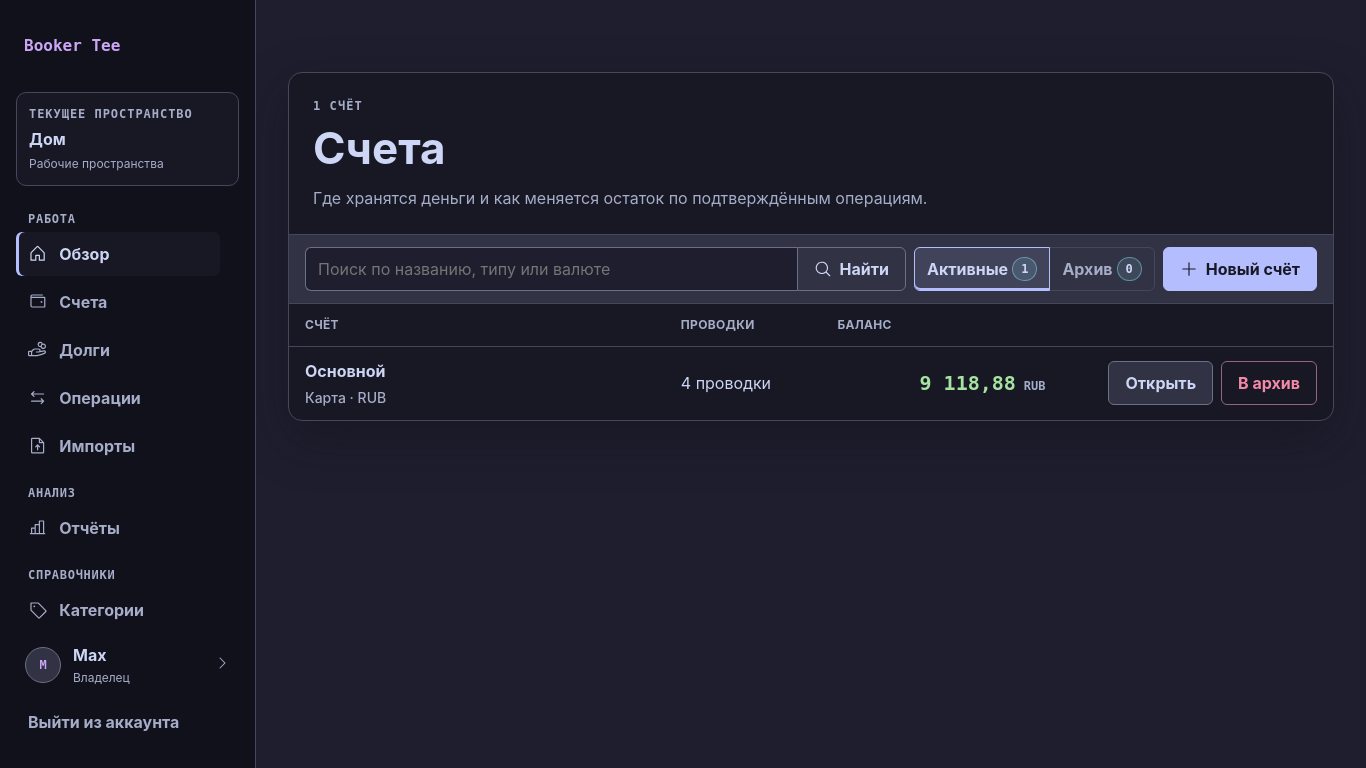
it: AccountListPage › archives only after confirmation and reconciles the committed row
Click the button "В архив" at coordinates (1269, 383), box x1=1221 y1=361 x2=1317 y2=405
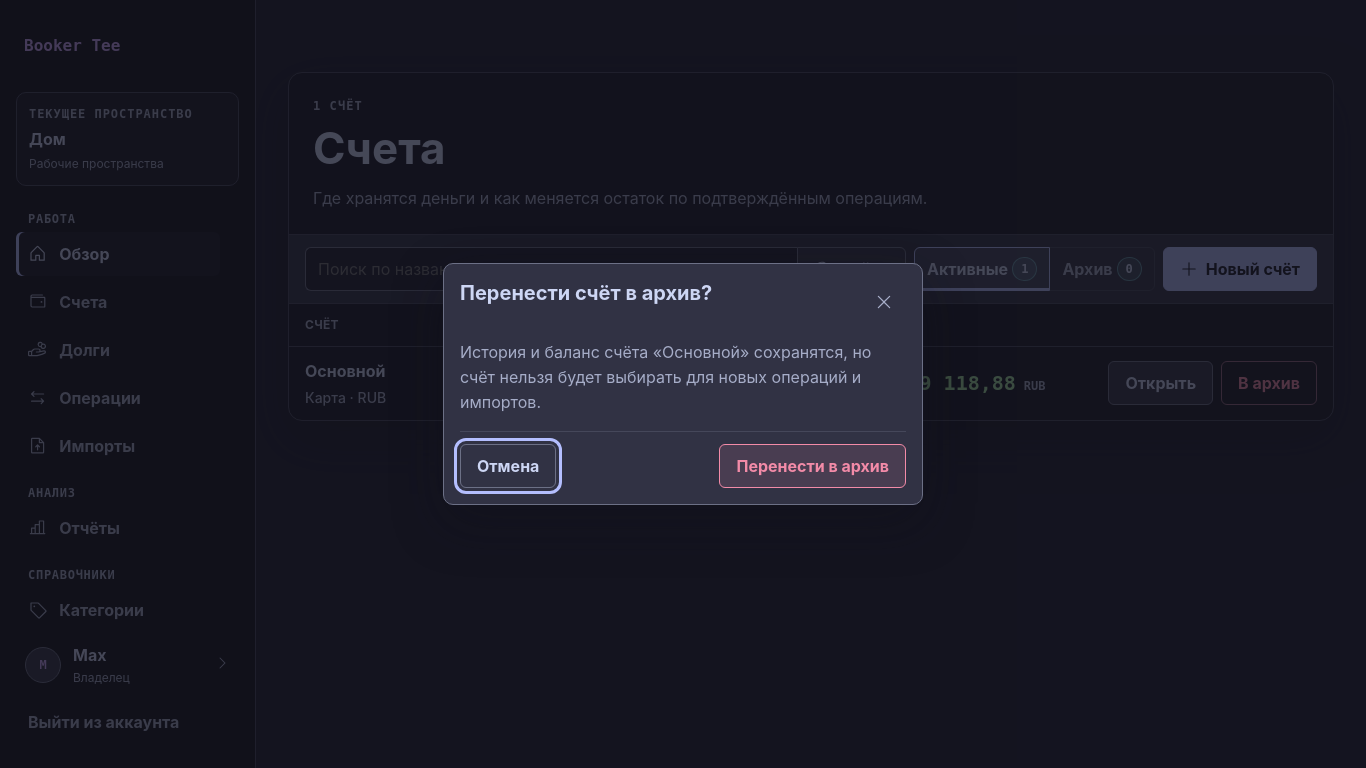
Check: the dialog "Перенести счёт в архив?" is shown, box x1=443 y1=263 x2=923 y2=505
Click the button "Перенести в архив" at coordinates (813, 466), box x1=719 y1=444 x2=906 y2=488
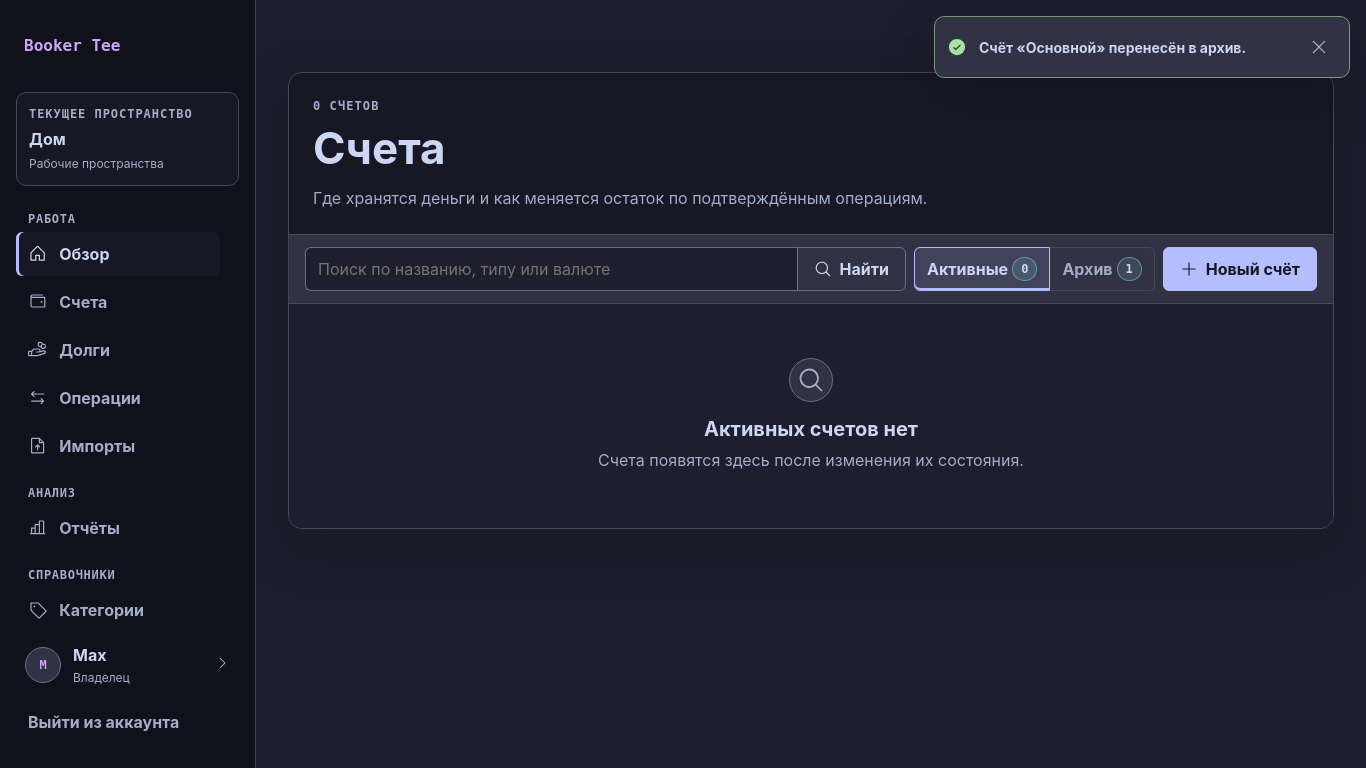
Check: the link "Архив 1" is shown, box x1=1049 y1=247 x2=1155 y2=291
Check: the heading "Активных счетов нет" is shown, box x1=704 y1=417 x2=918 y2=441
